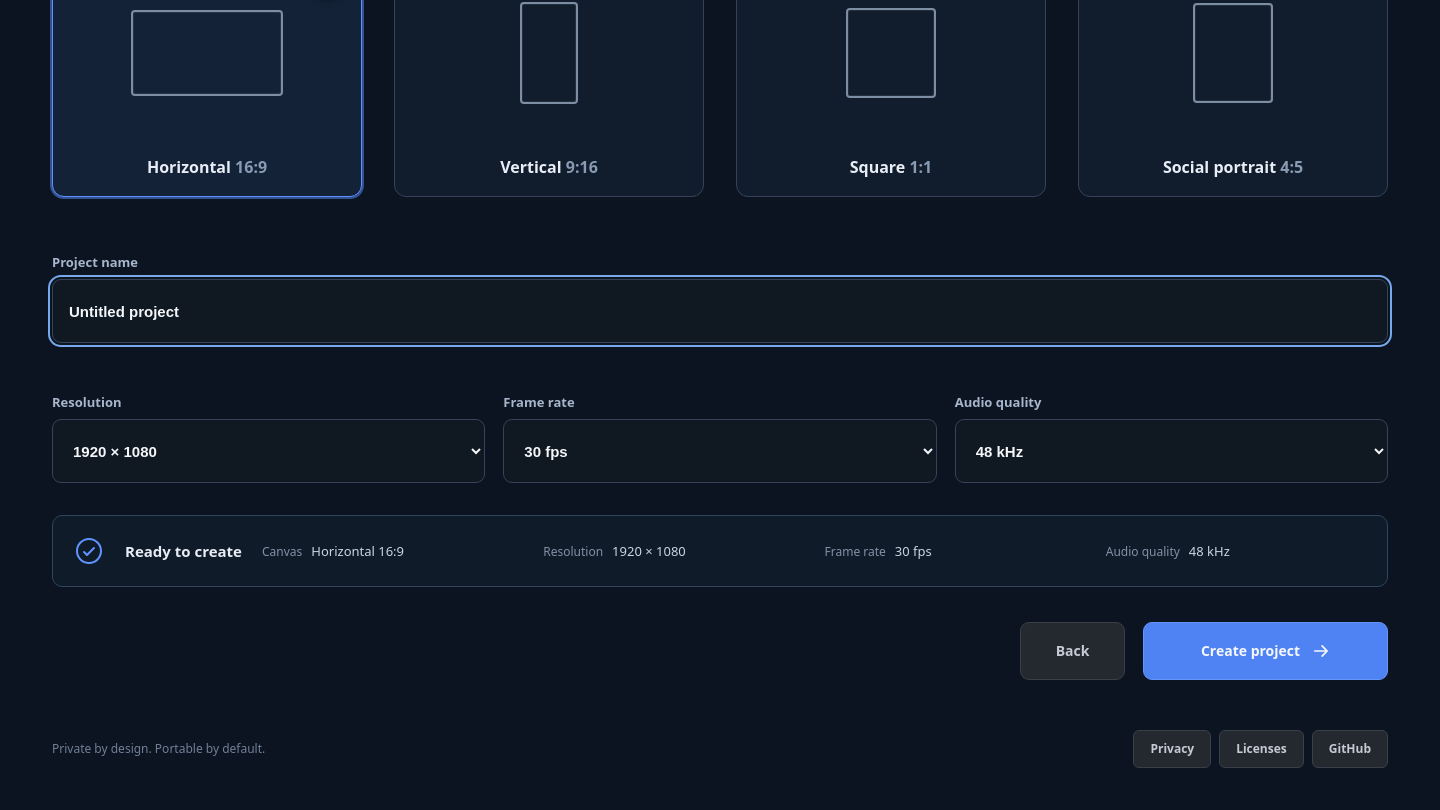
Scenario: ProjectLaunch › keeps project truth unchanged and offers reload when the editor chunk fails
The width and height of the screenshot is (1440, 810).
(page scrolled)
Click the button "Create project" at (1266, 651), box [1143,622,1388,680]
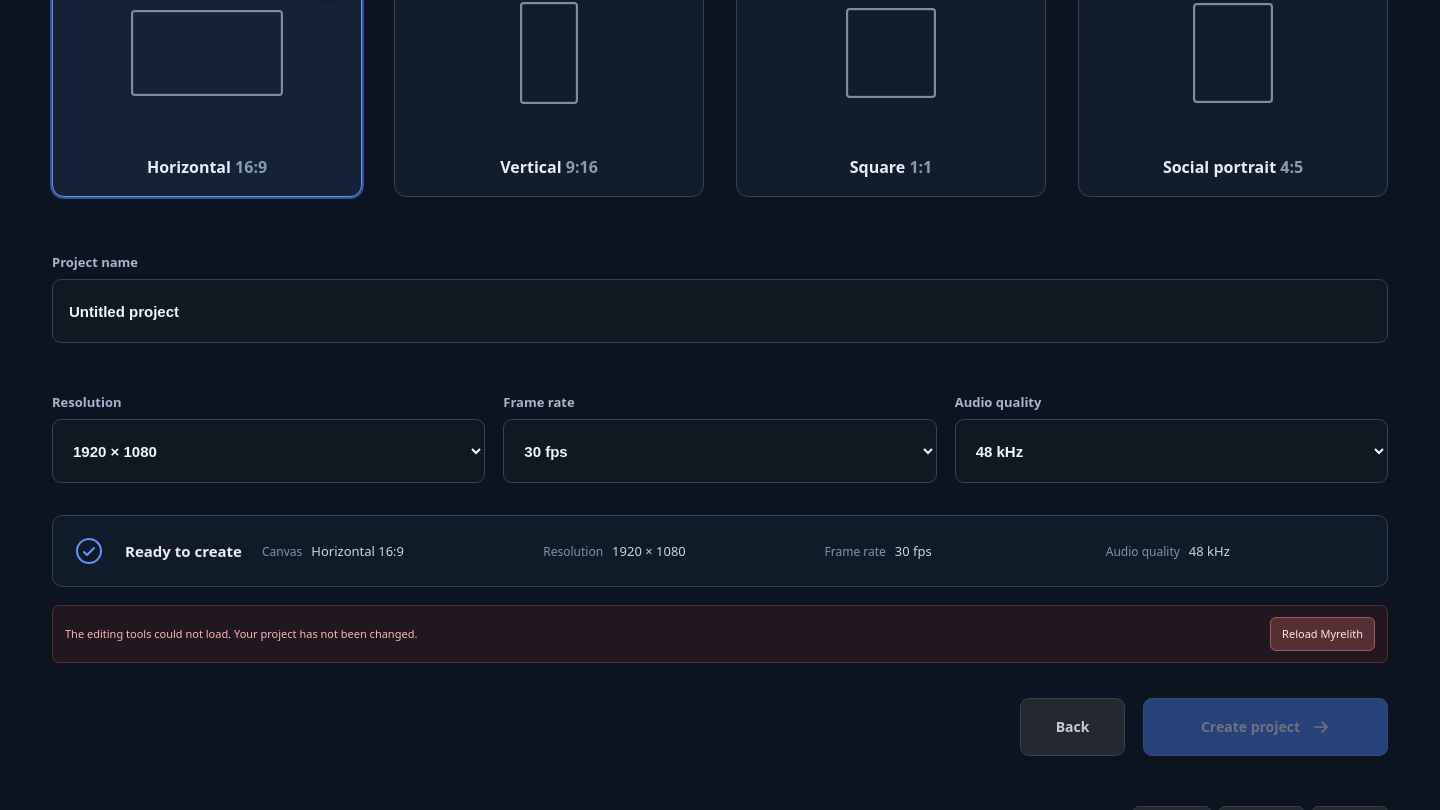
Check: the message shows "Your project has not been changed", box [65,626,417,641]
Check: the button "Reload Myrelith" is enabled, box [1270,617,1375,651]
Check: the button "Create project" is disabled, box [1143,698,1388,756]
